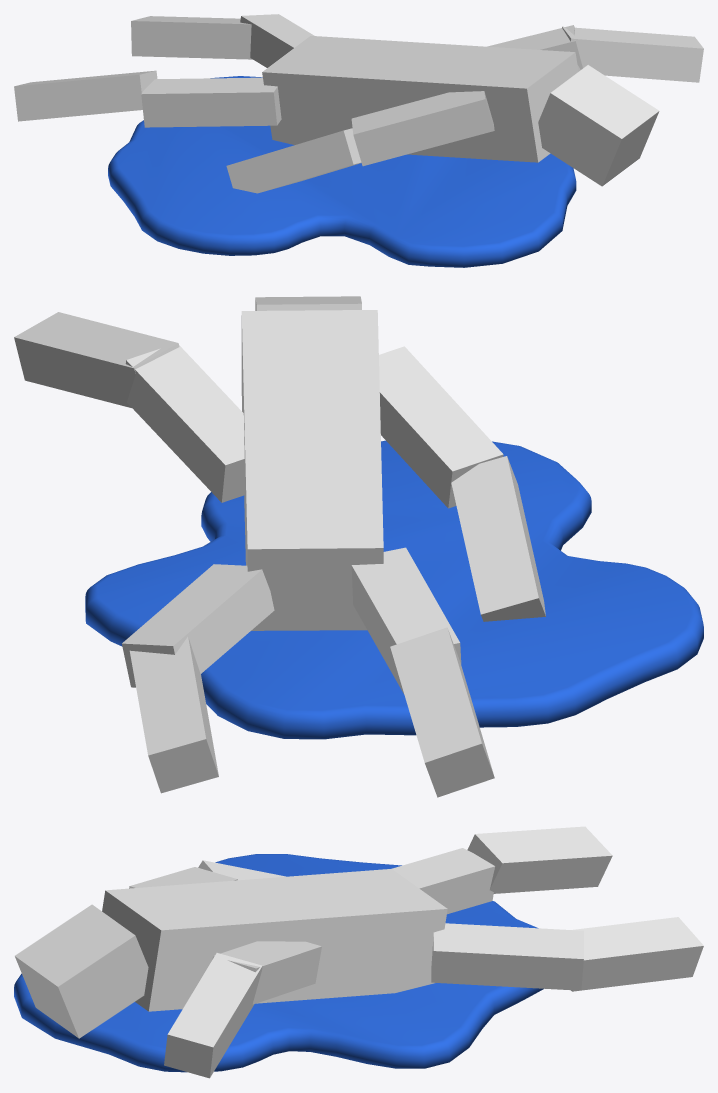
Rendered from Dead_body.fbx.
3 views of the same model, one above another, from view 1: azimuth 30°, elevation 25°; view 2: azimuth 150°, elevation 25°; view 3: azimuth 270°, elevation 25° (orthographic). The views are drawn at different scales.
Visible parts, largest first — view 1: Cube.014, Cylinder.005; view 2: Cube.014, Cylinder.005; view 3: Cube.014, Cylinder.005.
Part boxes in pixels (x1=…): Cube.014: x1=14, y1=14, x2=703, y2=193; Cylinder.005: x1=108, y1=76, x2=576, y2=267; Cube.014: x1=14, y1=296, x2=545, y2=797; Cylinder.005: x1=85, y1=440, x2=703, y2=739; Cube.014: x1=15, y1=826, x2=703, y2=1078; Cylinder.005: x1=14, y1=854, x2=543, y2=1072.
Bounding box in the file's own units: 270 × 65.57 × 283.
